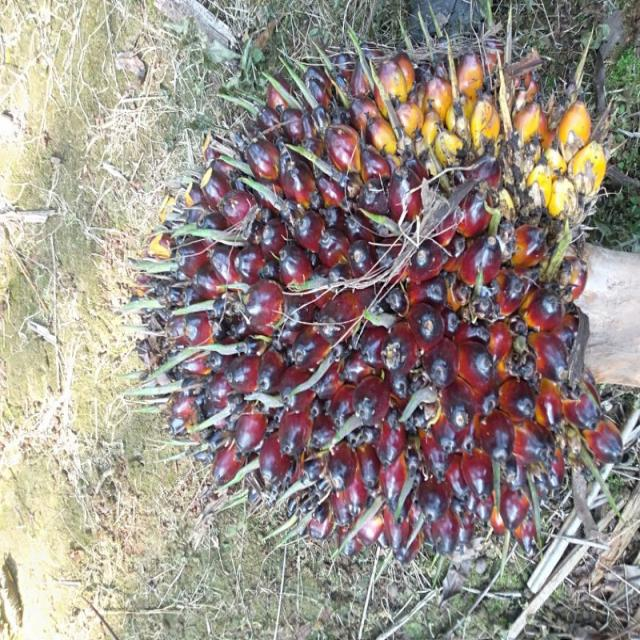fraksi 1: (106, 19, 608, 568)
